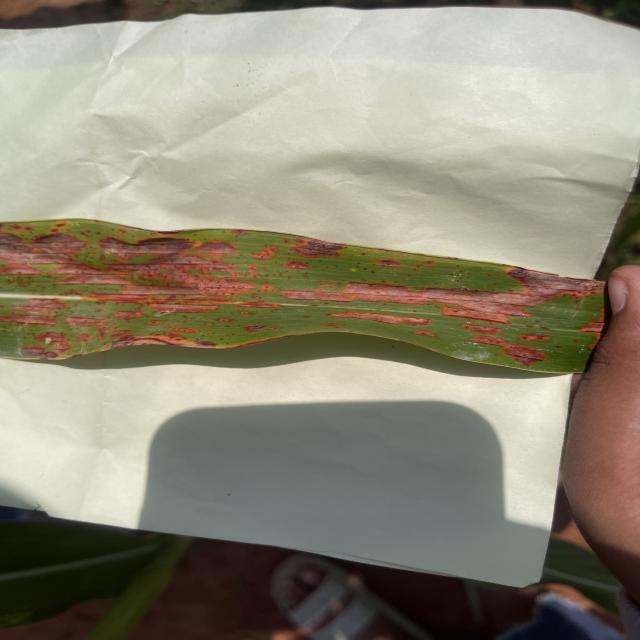millet_rust: (2, 217, 640, 380)
